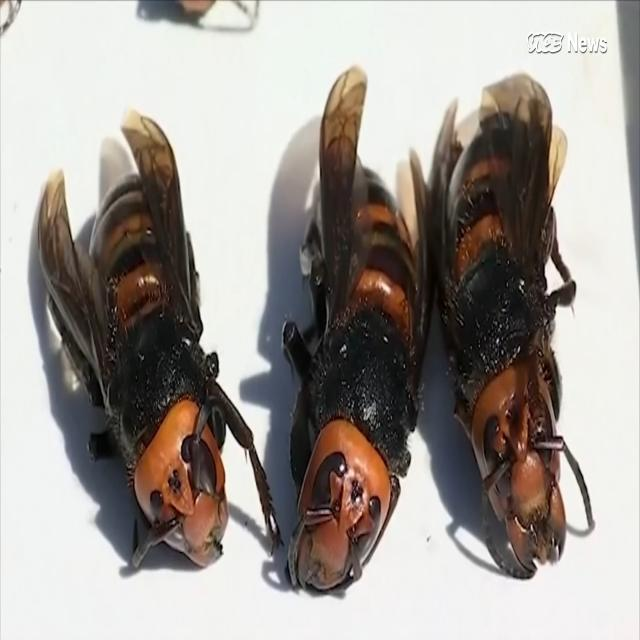Hornets: (39, 66, 285, 576), (428, 67, 598, 586), (282, 63, 429, 598), (411, 12, 414, 20)
